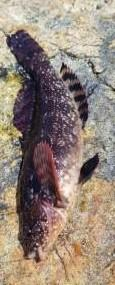fish: (7, 30, 98, 259)
